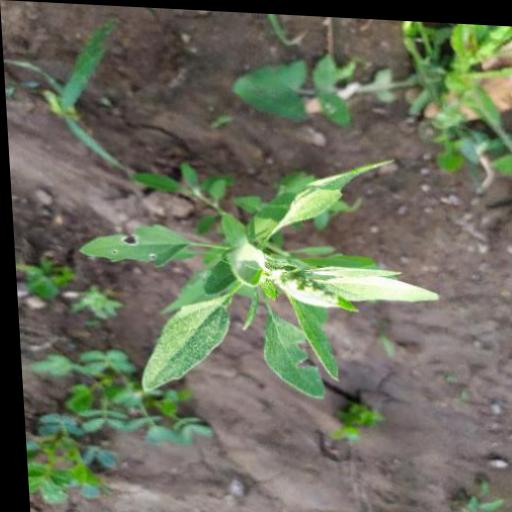weed: (71, 109, 444, 414)
